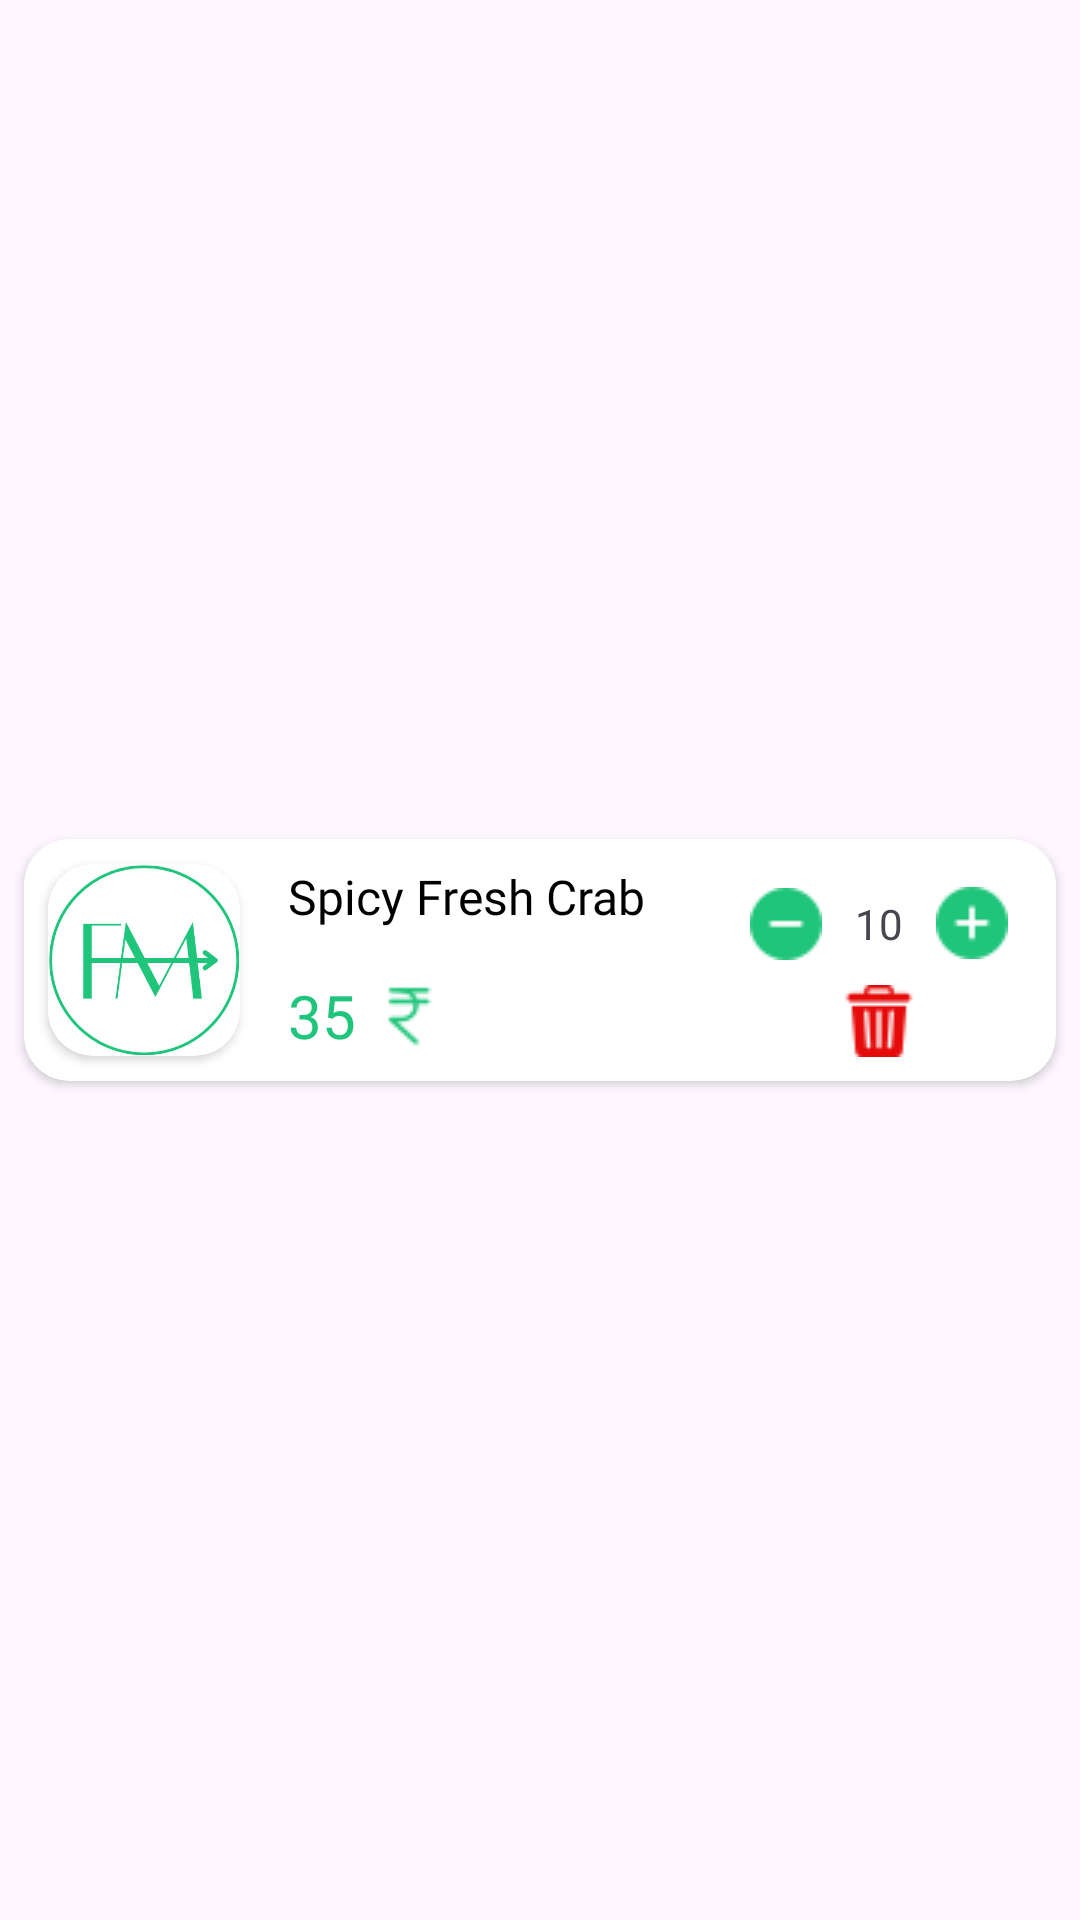

Locate icon controls on the screen. Image size 1080 x 1920, boxes as [x1=x1, y1=y1, x2=x2, y2=y2].
deletebgicon: [x1=845, y1=985, x2=913, y2=1057]
minusbgicon: [x1=750, y1=888, x2=822, y2=960]
plusbgicon: [x1=936, y1=887, x2=1008, y2=959]
